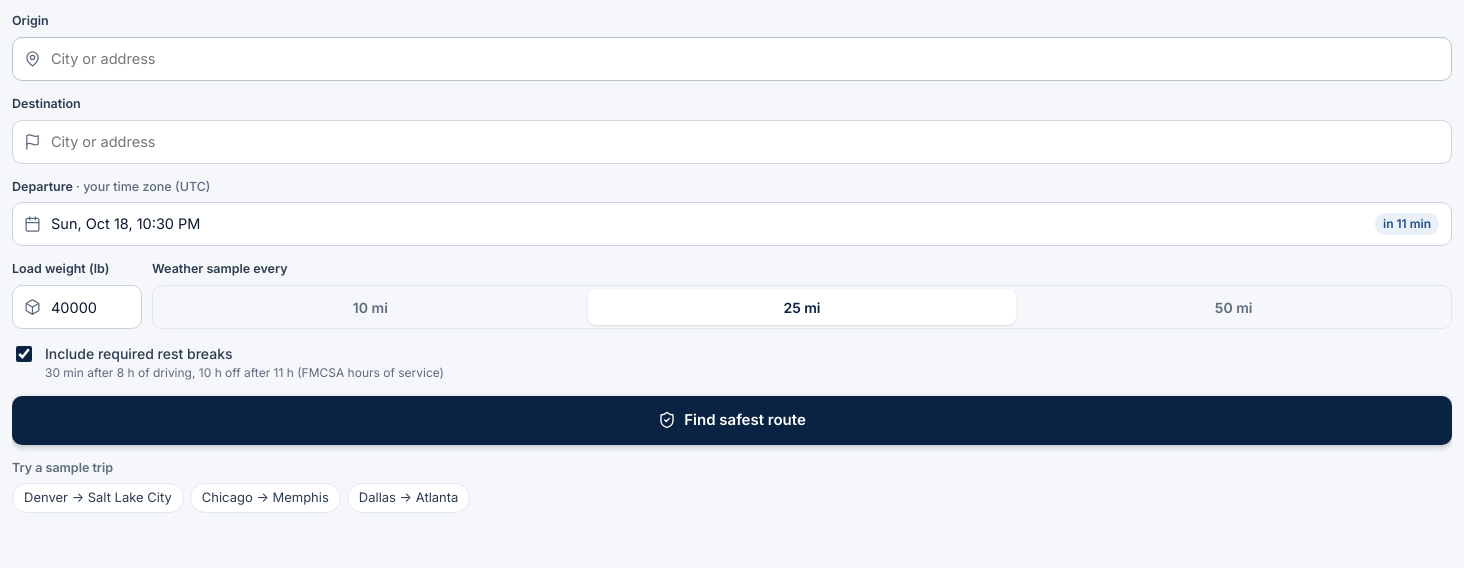
Test: TripForm › caps the load at the API's limit
Replace the text in the number field labelled "Load weight (lb)" with "200000": (77, 307) [12,285,142,329]
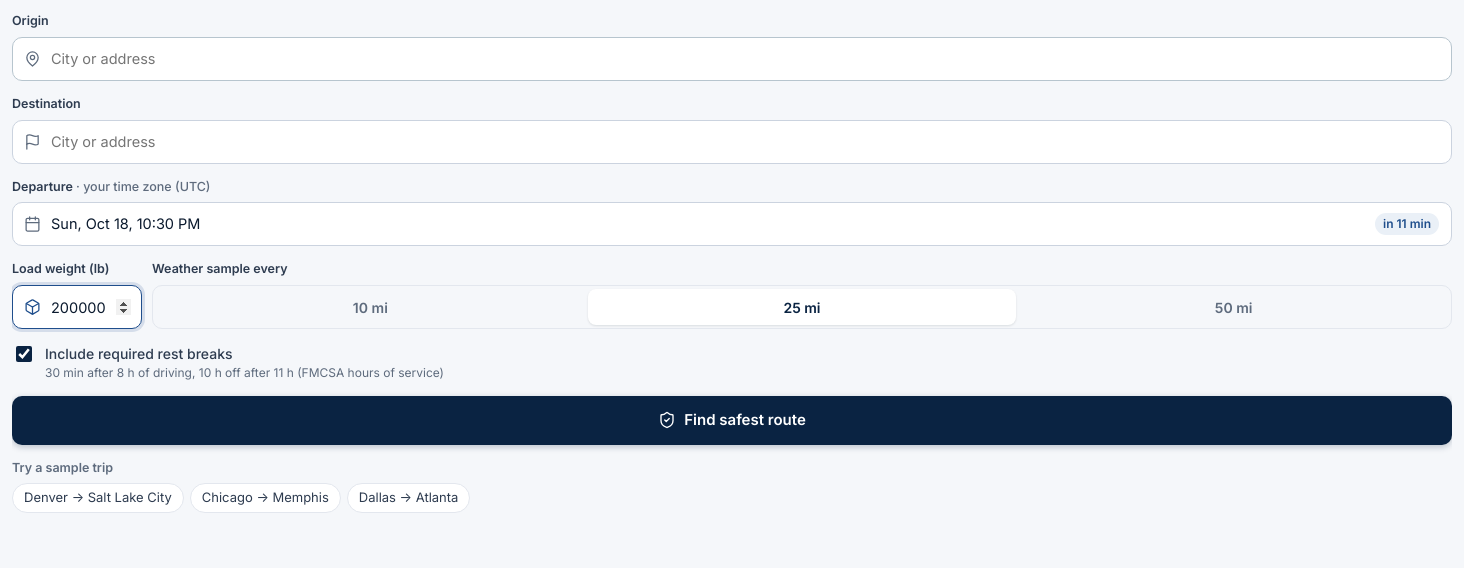
Click the button "Chicago → Memphis": (265, 498) [190,483,341,513]
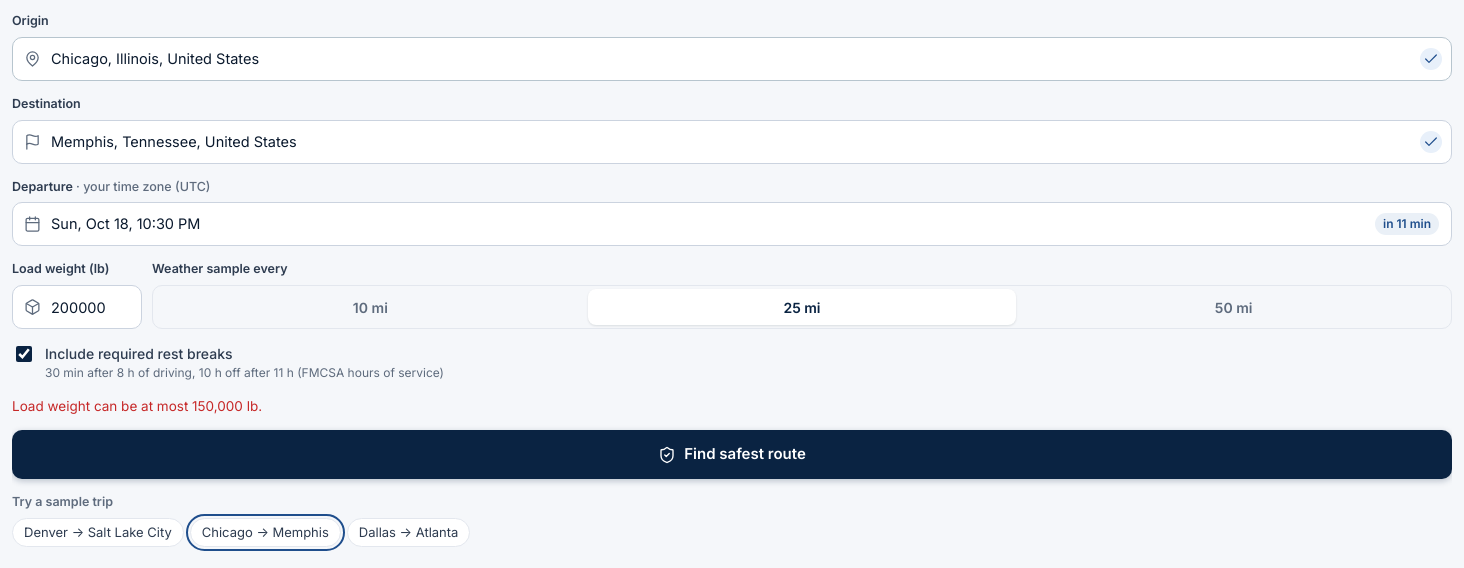
Result: the text "Load weight can be at most 150,000 lb." is shown at [12,398,262,414]
